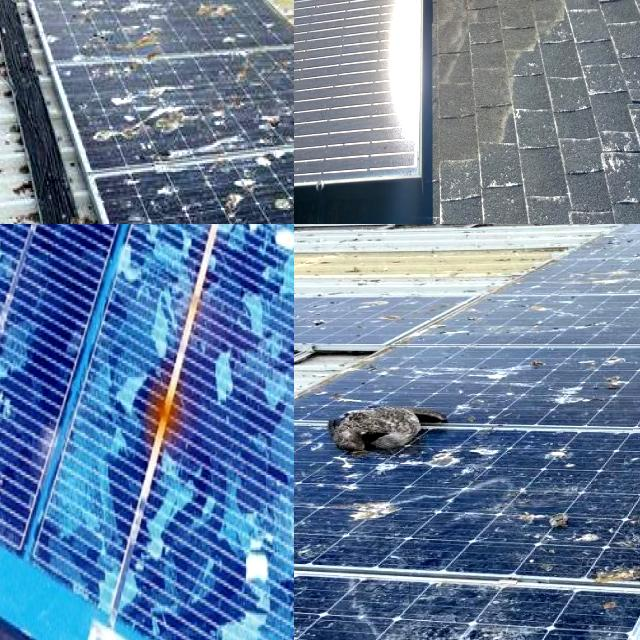bird: (102, 74, 196, 132), (80, 0, 163, 61), (510, 500, 595, 542), (219, 161, 268, 224), (532, 374, 610, 412), (420, 448, 500, 476), (338, 494, 401, 528), (249, 94, 294, 138), (588, 259, 640, 297), (188, 0, 238, 35), (294, 584, 329, 610), (294, 315, 320, 345), (294, 464, 322, 489)
dust: (294, 0, 361, 202), (294, 0, 365, 60), (294, 0, 341, 71), (294, 0, 323, 69)
shadow: (132, 331, 190, 484)
